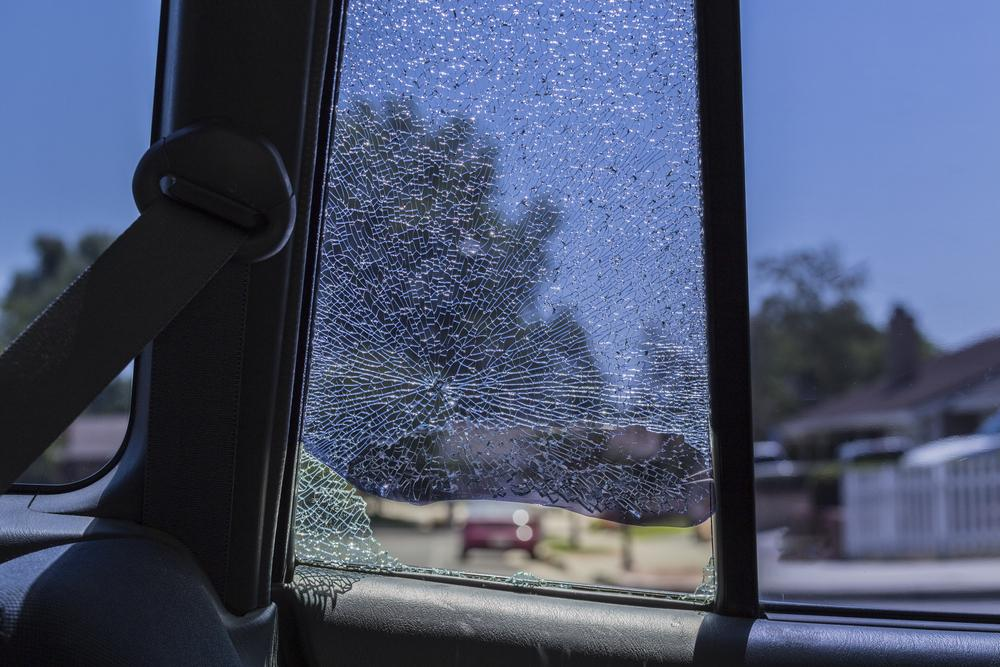glass shatter: (290, 0, 716, 609)
